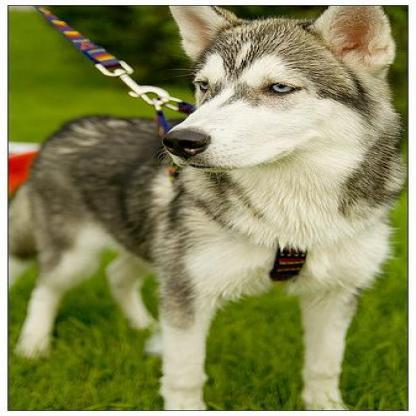Siberian_husky: (2, 4, 400, 411)
